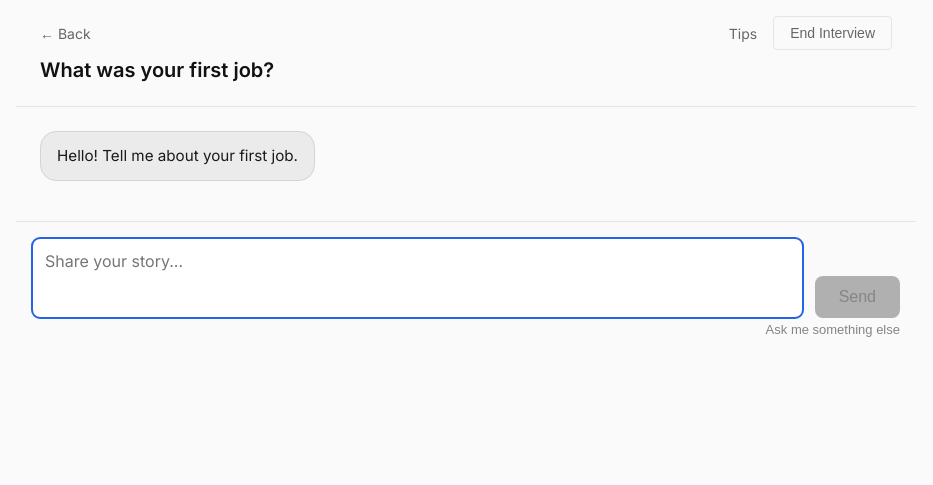
Scenario: InterviewSession › shows message was sent successfully
Type "Test message" into the text box with placeholder "Share your story..." at (417, 278), box [32, 238, 803, 318]
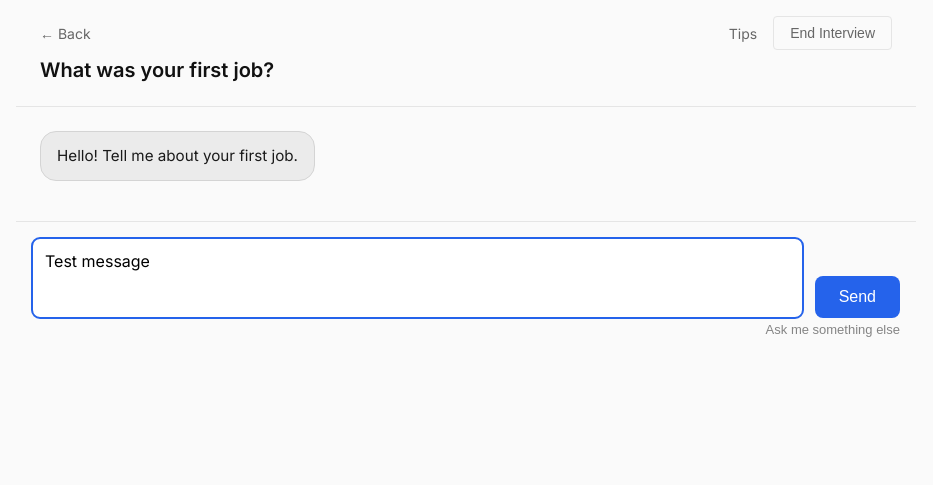
Press Enter
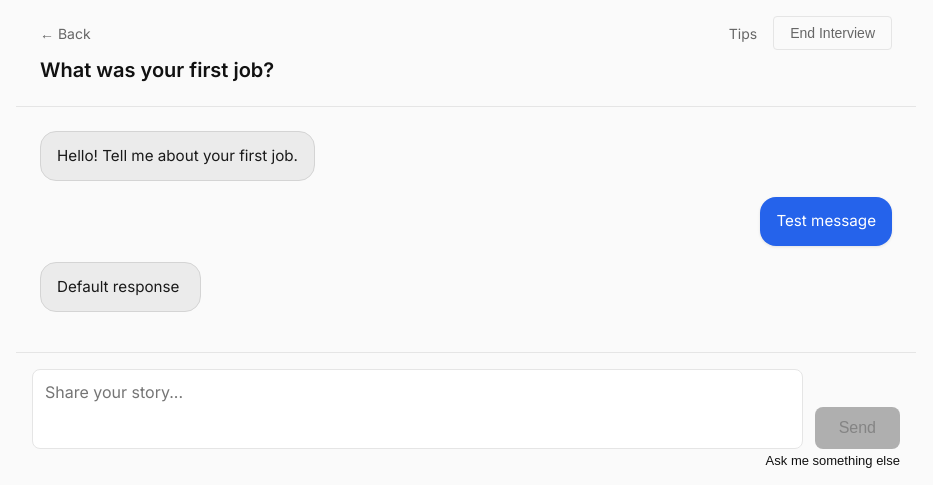
expect the text "Test message" is shown: met, box [760, 197, 892, 246]
expect the text "Default response" is shown: met, box [40, 262, 201, 312]
